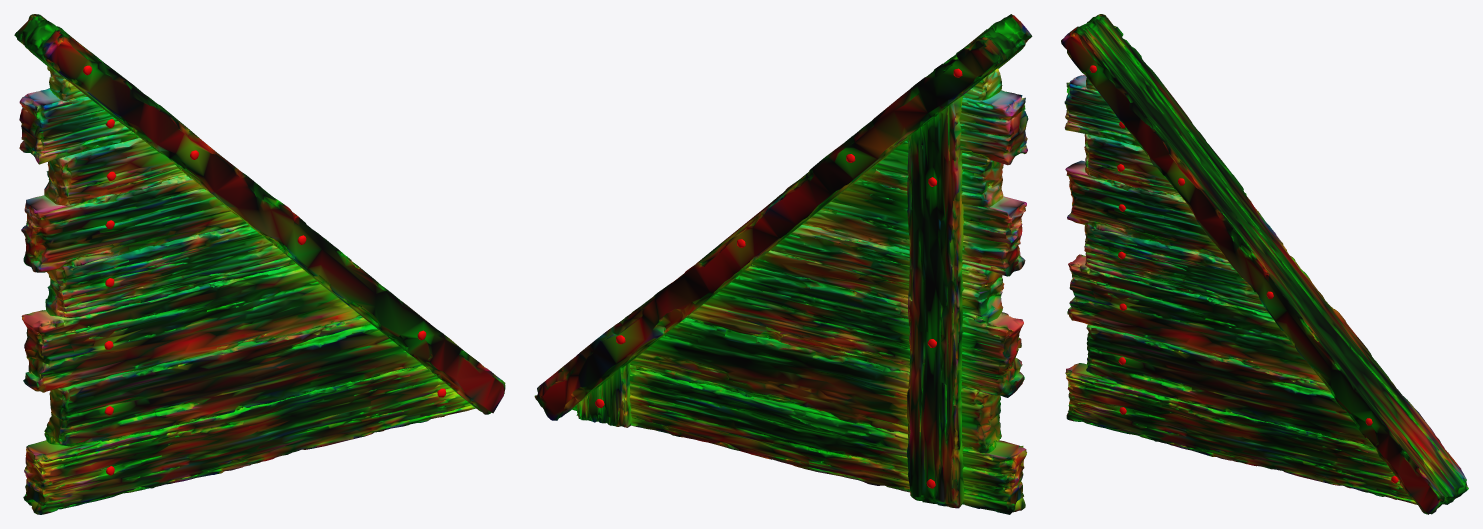
Rendered from SM_Wood_Wall_Tri_R.fbx.
The picture shows the model from 3 angles, left to right: view 1: azimuth 30°, elevation 25°; view 2: azimuth 150°, elevation 25°; view 3: azimuth 330°, elevation 25°; orthographic projection. The views are drawn at different scales.
Parts seen in each view (by area): view 1: SM_Wood_Wall_Tri_R_LOD0; view 2: SM_Wood_Wall_Tri_R_LOD0; view 3: SM_Wood_Wall_Tri_R_LOD0.
Part boxes in pixels (x1,y1,x2,y2): SM_Wood_Wall_Tri_R_LOD0: [14, 14, 505, 514]; SM_Wood_Wall_Tri_R_LOD0: [534, 14, 1032, 514]; SM_Wood_Wall_Tri_R_LOD0: [1061, 14, 1468, 514].
Bounding box in the file's own units: 317 × 44.2 × 315.
